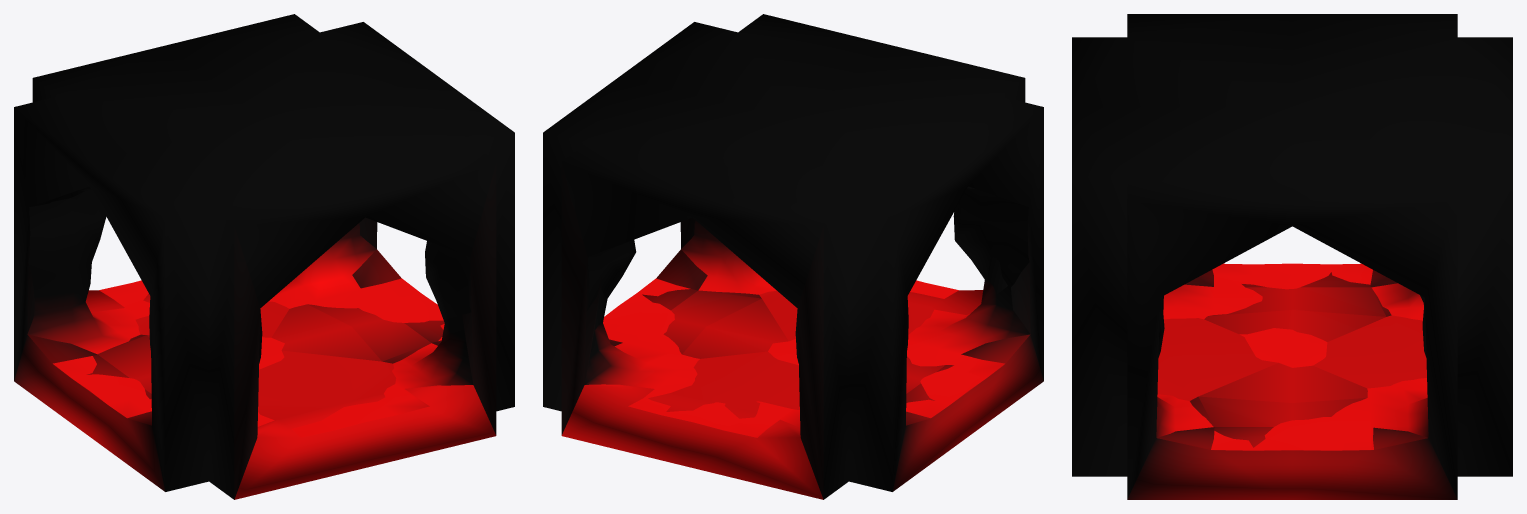
File: JD_Cave_A_Tunnel_6x6_4Way_01.fbx
3 renders of one model, left to right at view 1: azimuth 30°, elevation 25°; view 2: azimuth 150°, elevation 25°; view 3: azimuth 270°, elevation 25°, orthographic. The views are drawn at different scales.
Parts seen in each view (by area): view 1: C_JD_Cave_A_Tunnel_6x6_4Way_01, JD_Cave_A_Tunnel_6x6_4Way_01; view 2: C_JD_Cave_A_Tunnel_6x6_4Way_01, JD_Cave_A_Tunnel_6x6_4Way_01; view 3: C_JD_Cave_A_Tunnel_6x6_4Way_01, JD_Cave_A_Tunnel_6x6_4Way_01.
Boxes of the visible parts, x1=… form: C_JD_Cave_A_Tunnel_6x6_4Way_01: x1=14, y1=14, x2=514, y2=499; JD_Cave_A_Tunnel_6x6_4Way_01: x1=27, y1=189, x2=473, y2=437; C_JD_Cave_A_Tunnel_6x6_4Way_01: x1=543, y1=14, x2=1043, y2=499; JD_Cave_A_Tunnel_6x6_4Way_01: x1=584, y1=188, x2=1030, y2=437; C_JD_Cave_A_Tunnel_6x6_4Way_01: x1=1072, y1=14, x2=1512, y2=499; JD_Cave_A_Tunnel_6x6_4Way_01: x1=1156, y1=263, x2=1428, y2=450.
Bounding box in the file's own units: 8 × 6 × 8.
